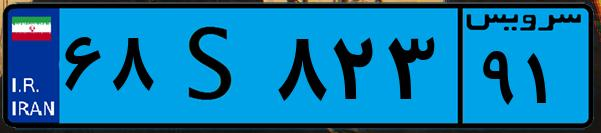1: (525, 38, 570, 115)
2: (330, 28, 385, 110)
3: (385, 28, 445, 110)
6: (57, 26, 110, 100)
8: (270, 28, 330, 110), (110, 28, 158, 98)
9: (475, 38, 525, 113)
S: (158, 12, 270, 120)
